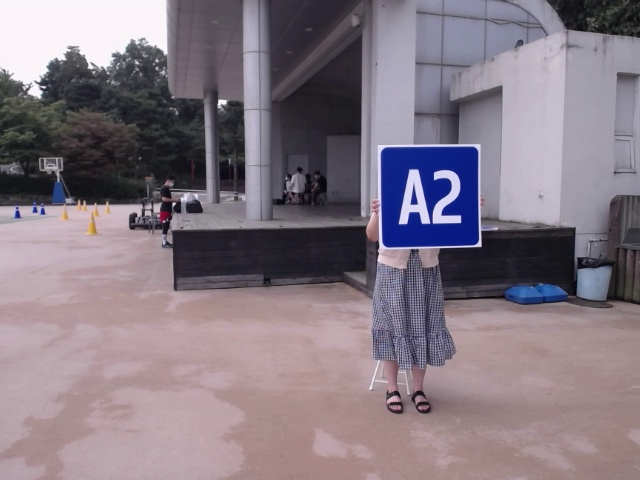delivery_a2: (377, 145, 481, 248)
